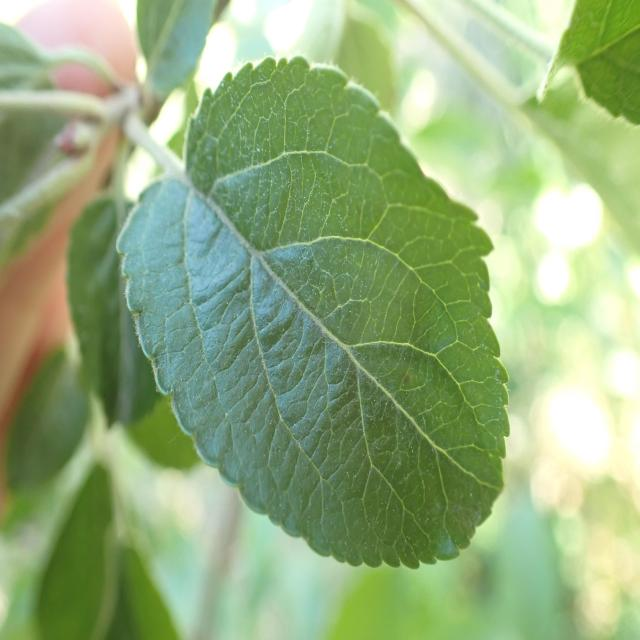healthy: (114, 55, 510, 570), (536, 0, 640, 126)
